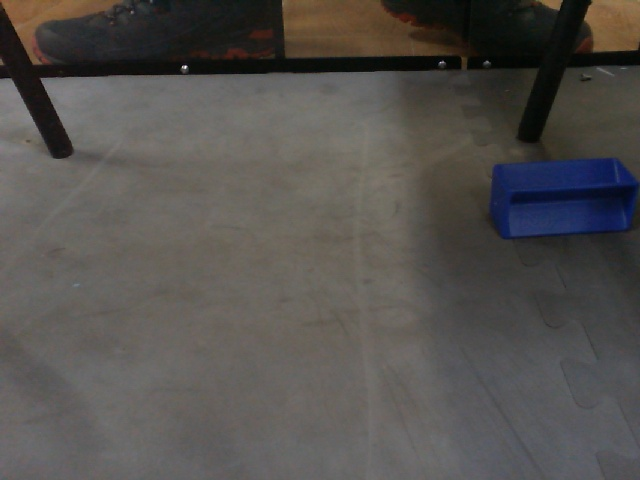BlueSample: (483, 155, 640, 247)
